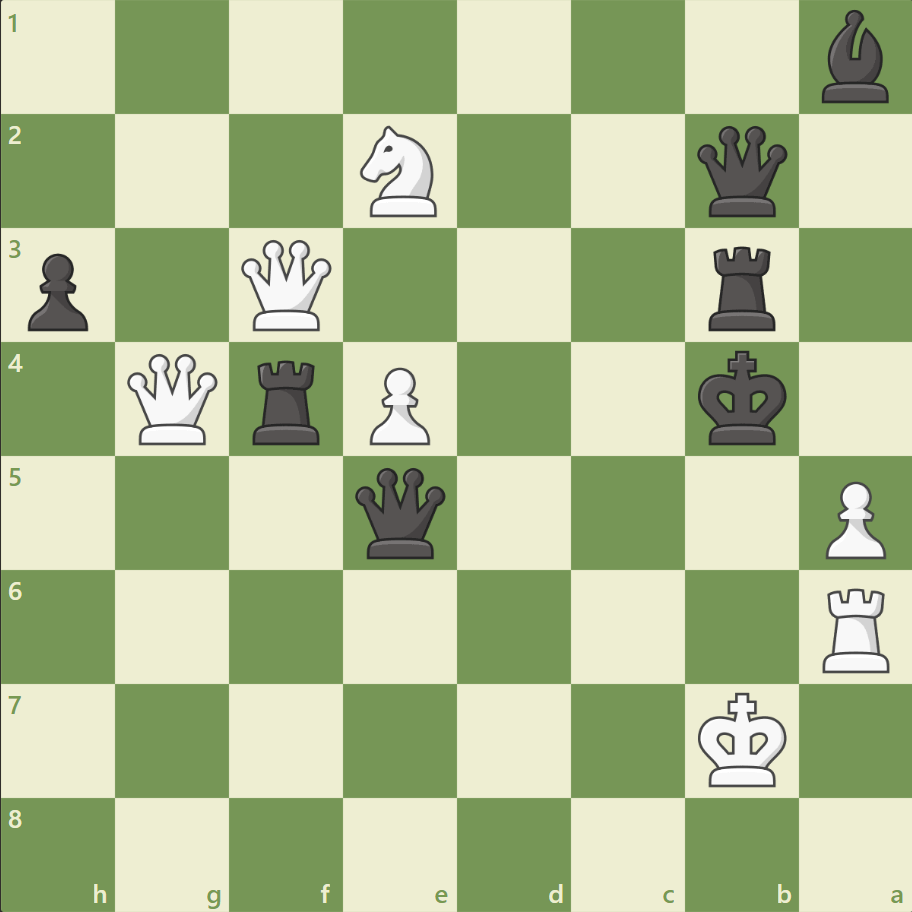K: (692, 685, 792, 793)
N: (351, 121, 449, 223)
P: (815, 473, 889, 564), (361, 359, 435, 450)
Q: (124, 349, 223, 449), (237, 236, 336, 335)
R: (814, 579, 897, 676)
b: (812, 6, 896, 109)
k: (692, 344, 792, 452)
p: (20, 246, 95, 337)
q: (691, 122, 790, 222), (351, 463, 450, 562)
r: (246, 352, 329, 449), (700, 239, 783, 336)
